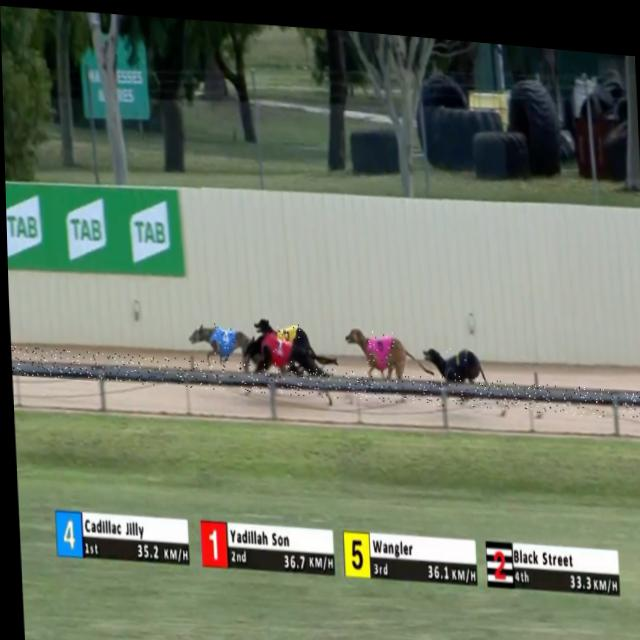dog_eight: (364, 322, 394, 361)
dog_four: (211, 319, 233, 354)
dog_one: (264, 327, 293, 366)
dog_seven: (444, 339, 468, 370), (275, 314, 299, 343)
rail: (9, 358, 640, 396)
